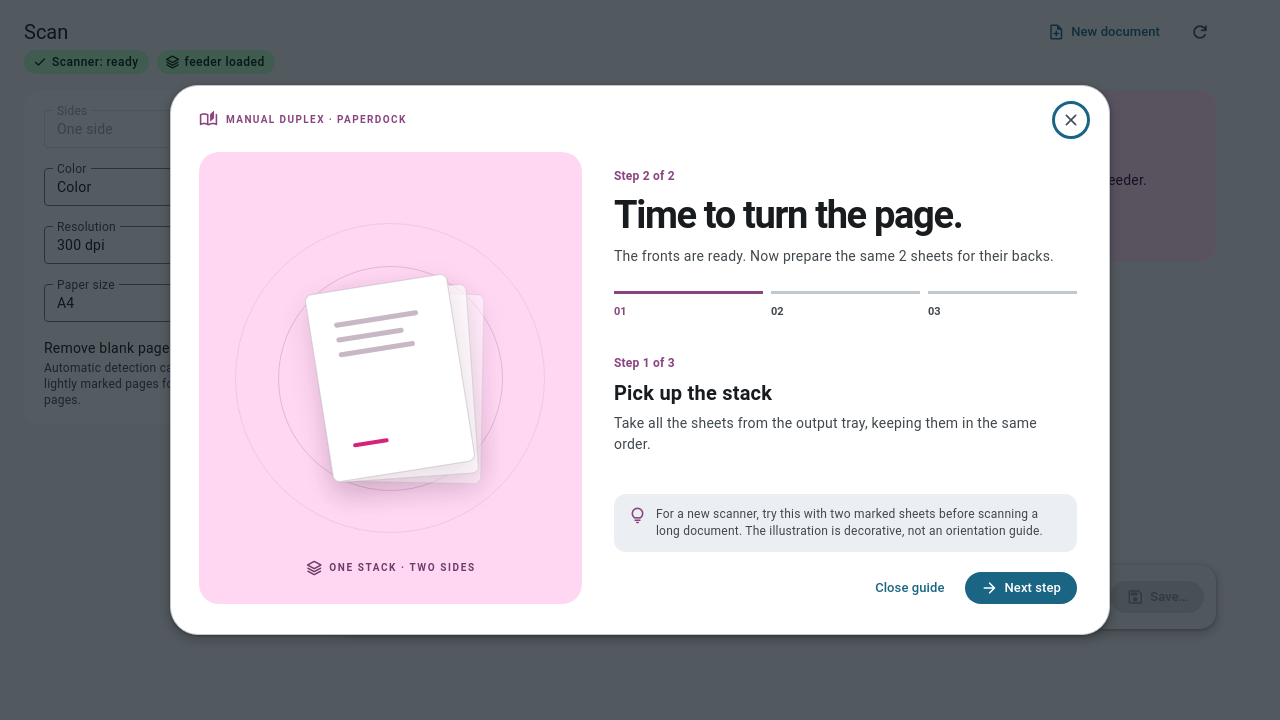
it: scanning documents › allows closing and reopening the manual duplex guide
Click the button "Close guide": (910, 588) [863, 572, 956, 604]
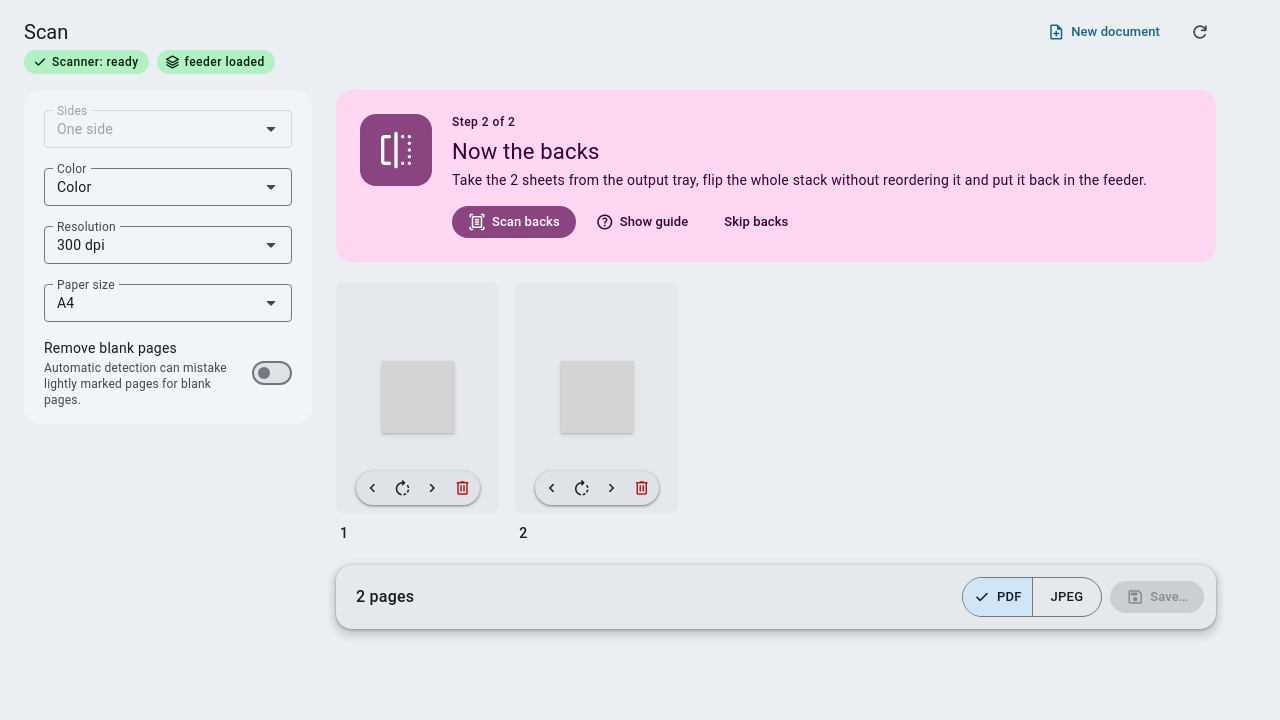
Result: the heading "Time to turn the page." is gone
Click the button "Show guide": (644, 222) [584, 206, 704, 238]
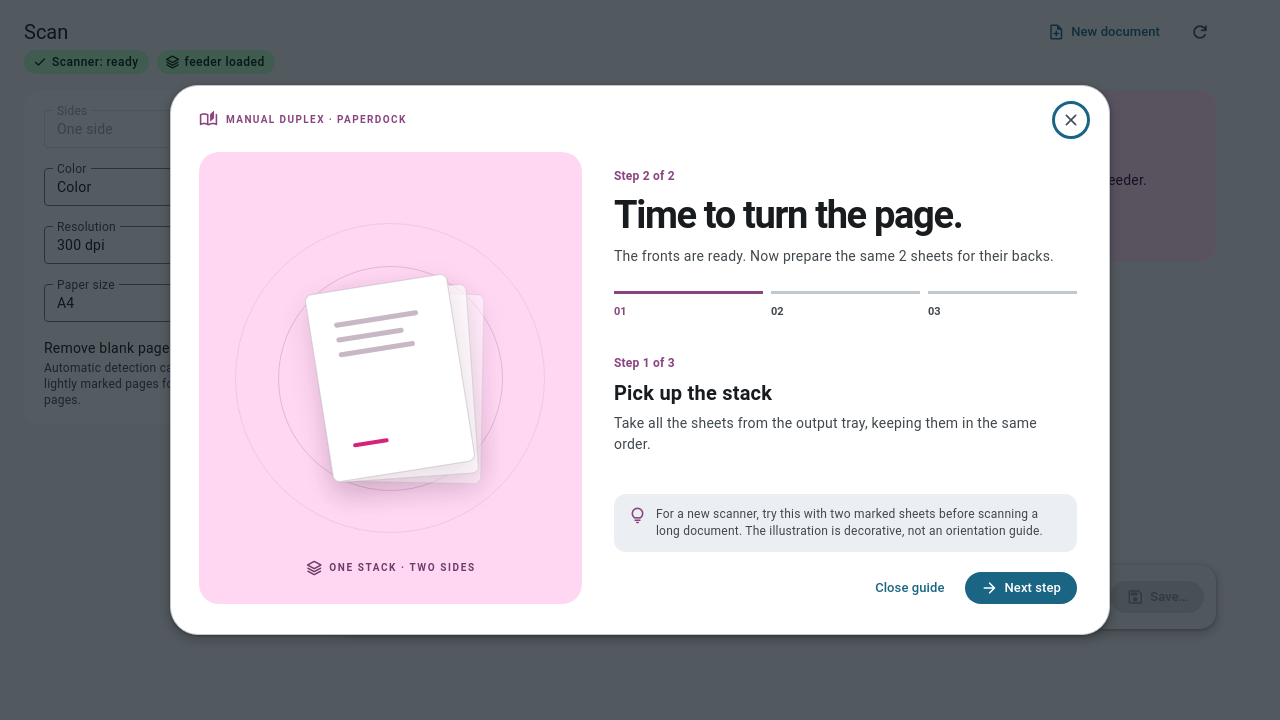
Result: the dialog named "Time to turn the page." is shown at [170, 85, 1110, 635]
